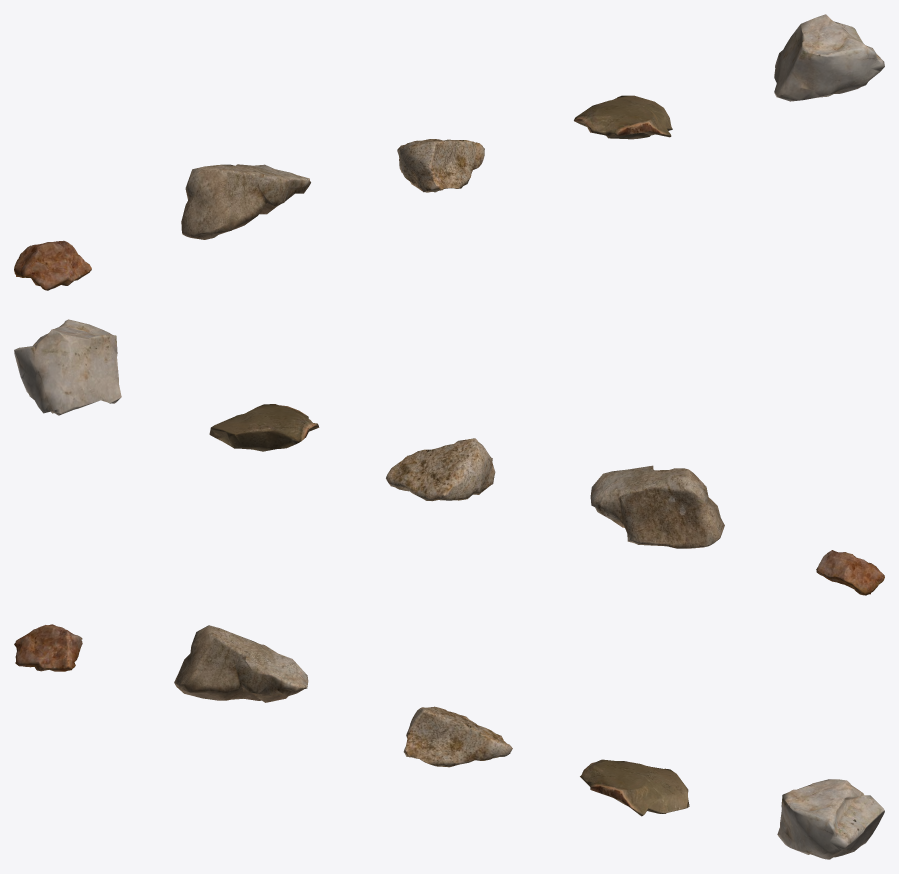
Rendered from namaqualand_stones_01.glb.
The picture shows the model from 3 angles, top to bottom: view 1: azimuth 30°, elevation 25°; view 2: azimuth 150°, elevation 25°; view 3: azimuth 330°, elevation 25°; orthographic projection.
Parts seen in each view (by area): view 1: namaqualand_stones_01_e, namaqualand_stones_01_b, namaqualand_stones_01_c, namaqualand_stones_01_d, namaqualand_stones_01_a; view 2: namaqualand_stones_01_b, namaqualand_stones_01_e, namaqualand_stones_01_c, namaqualand_stones_01_d, namaqualand_stones_01_a; view 3: namaqualand_stones_01_b, namaqualand_stones_01_e, namaqualand_stones_01_c, namaqualand_stones_01_d, namaqualand_stones_01_a.
Boxes of the visible parts, box(x1,y1,x2,y2) form: namaqualand_stones_01_e: box(774, 14, 884, 101); namaqualand_stones_01_b: box(181, 164, 310, 239); namaqualand_stones_01_c: box(397, 139, 484, 192); namaqualand_stones_01_d: box(574, 95, 672, 139); namaqualand_stones_01_a: box(14, 240, 91, 290); namaqualand_stones_01_b: box(590, 465, 724, 548); namaqualand_stones_01_e: box(14, 319, 121, 415); namaqualand_stones_01_c: box(386, 438, 495, 501); namaqualand_stones_01_d: box(209, 404, 319, 451); namaqualand_stones_01_a: box(816, 550, 884, 595); namaqualand_stones_01_b: box(174, 625, 308, 702); namaqualand_stones_01_e: box(777, 779, 884, 859); namaqualand_stones_01_c: box(403, 706, 512, 767); namaqualand_stones_01_d: box(580, 759, 689, 816); namaqualand_stones_01_a: box(14, 624, 82, 671).
Bounding box in the file's own units: 1.02 × 0.0828 × 0.1116.
1 material, 1 textured.
